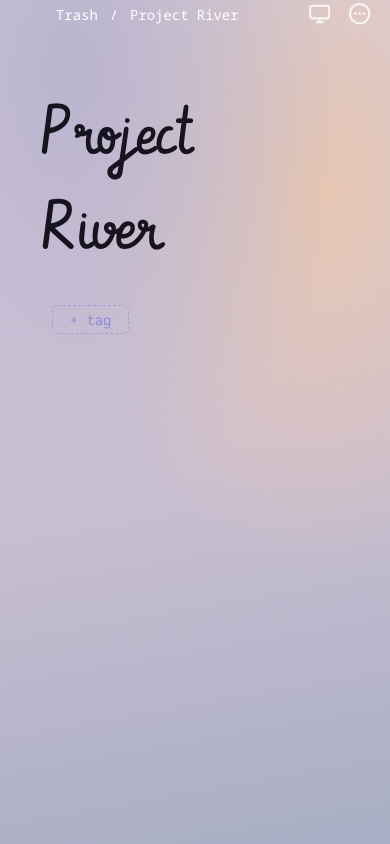
Test: EditorHeader note menu › offers recovery for a trashed note
Click the button named "Note actions": (360, 14) [346,0,374,28]
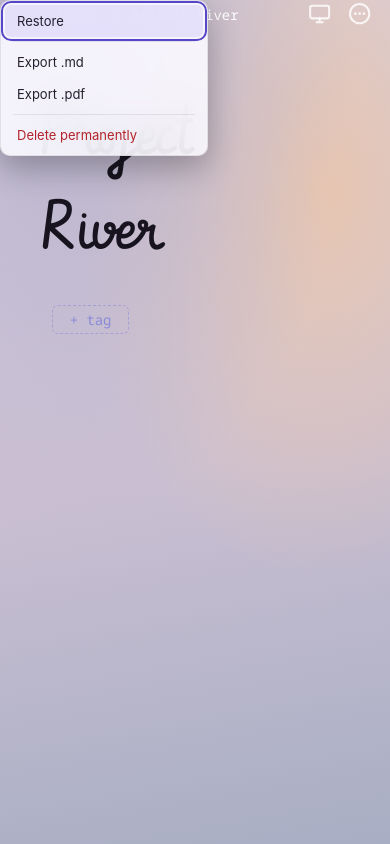
Now the menu item "Restore" is shown, box [5,5,203,37]
Now the menu item "Delete permanently" is shown, box [5,119,203,151]
